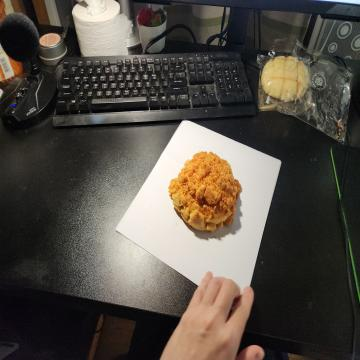soboru_bread: (169, 151, 242, 229)
